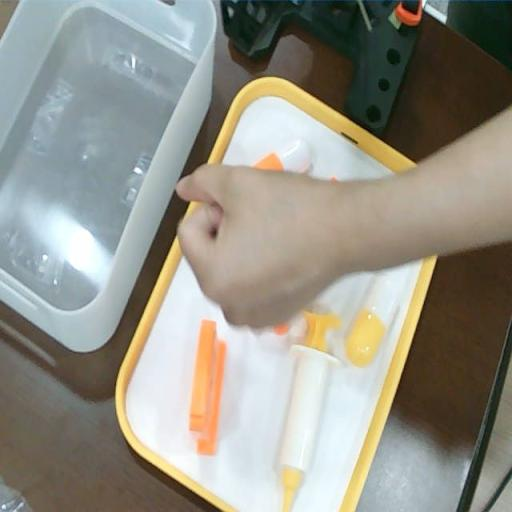hospital: (174, 159, 368, 335)
